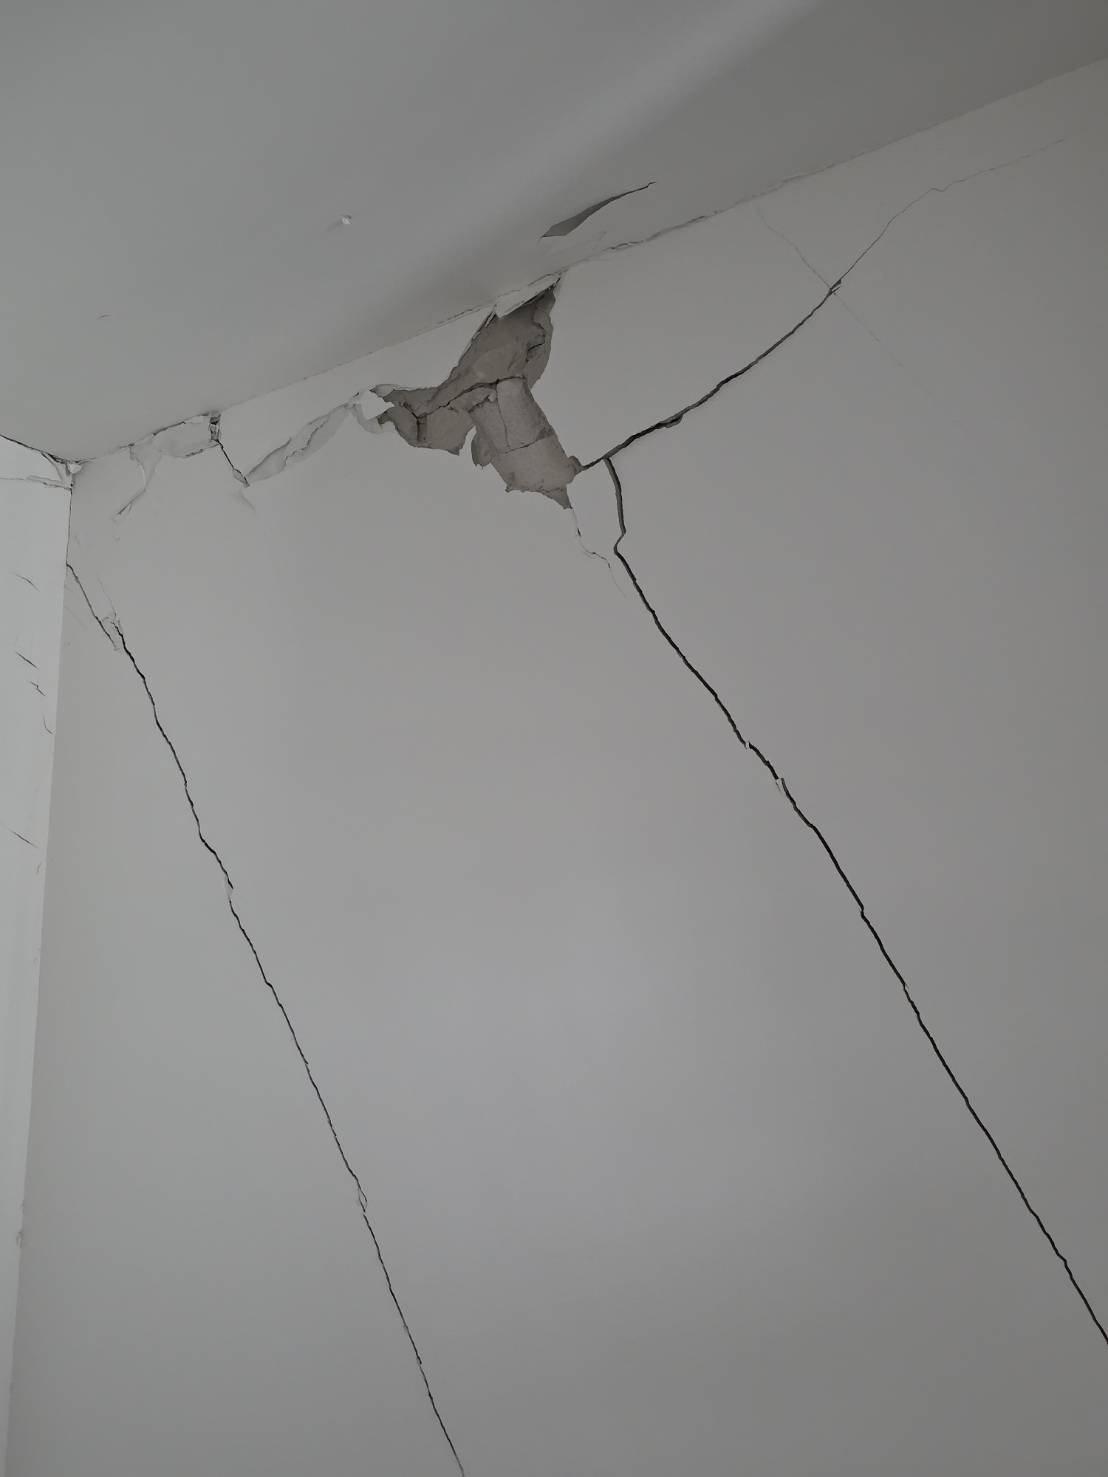Medium: (525, 321, 976, 1014)
